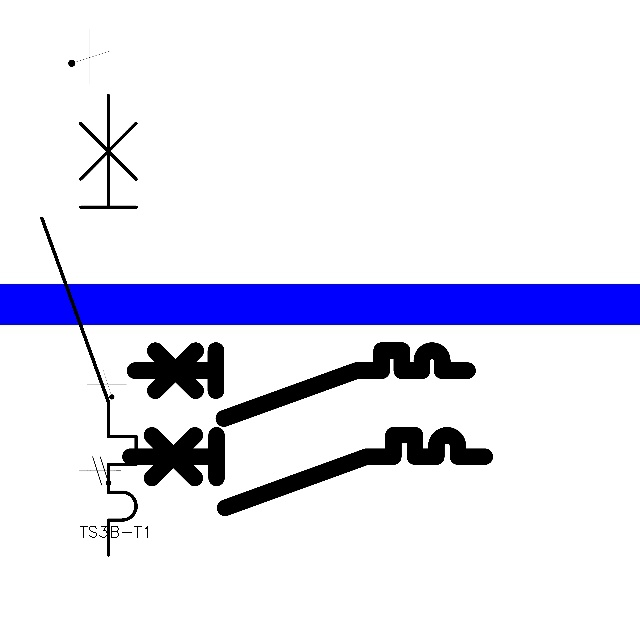interruptor_termomagnetico: (30, 83, 148, 566), (121, 426, 494, 517), (126, 342, 476, 427)
